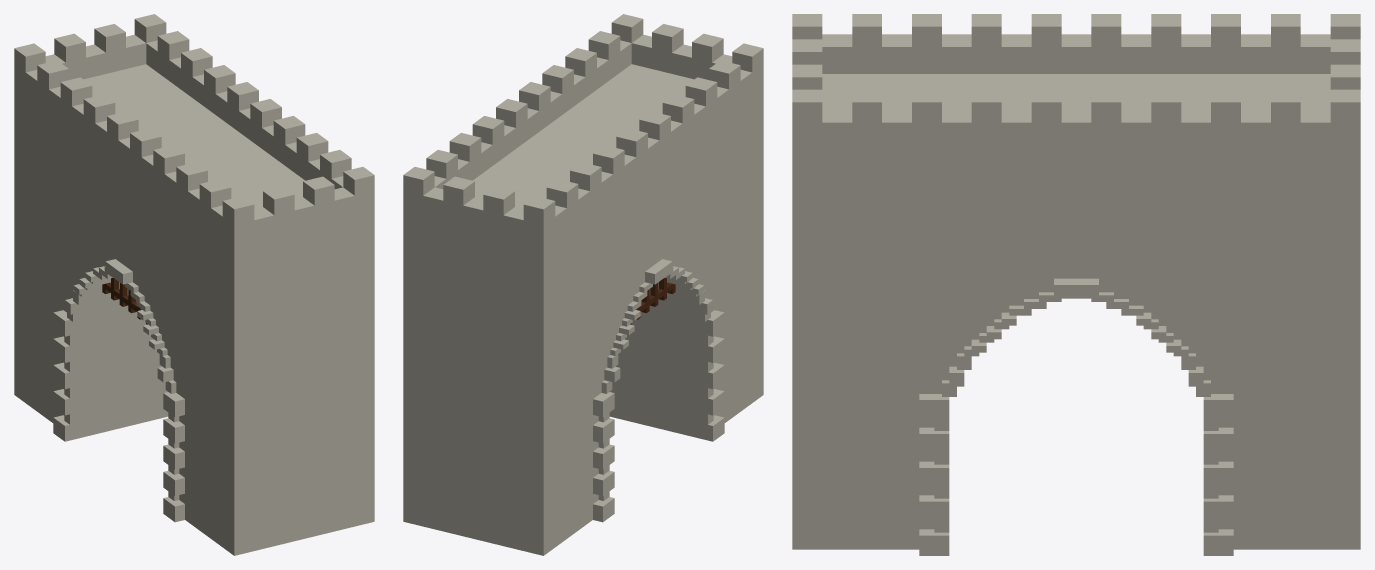
The model's file is BurgtorKleinerBuildingPlaced.fbx.
3 renders of one model, left to right at view 1: azimuth 30°, elevation 25°; view 2: azimuth 150°, elevation 25°; view 3: azimuth 270°, elevation 25°, orthographic. The views are drawn at different scales.
Parts seen in each view (by area): view 1: BurgtorVerkleinert; view 2: BurgtorVerkleinert; view 3: BurgtorVerkleinert.
Part boxes in pixels (x1=…): BurgtorVerkleinert: x1=14, y1=14, x2=374, y2=555; BurgtorVerkleinert: x1=403, y1=14, x2=763, y2=555; BurgtorVerkleinert: x1=792, y1=14, x2=1360, y2=555.
Bounding box in the file's own units: 320 × 660 × 760.
